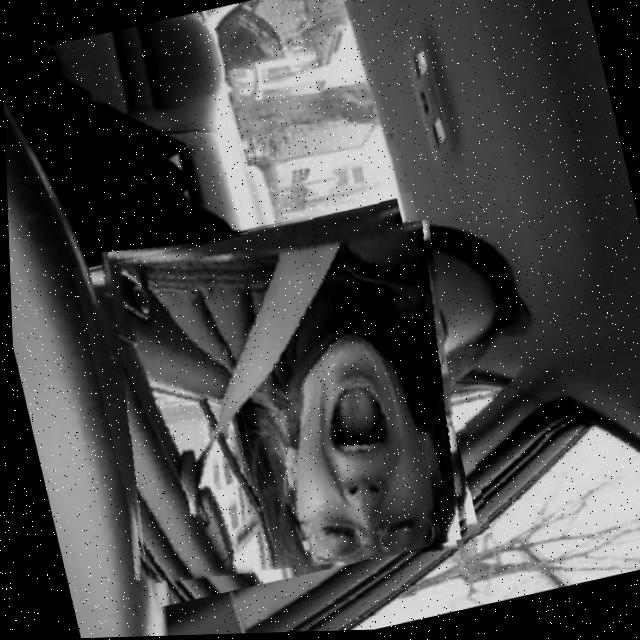seatbelt: (68, 193, 488, 612)
